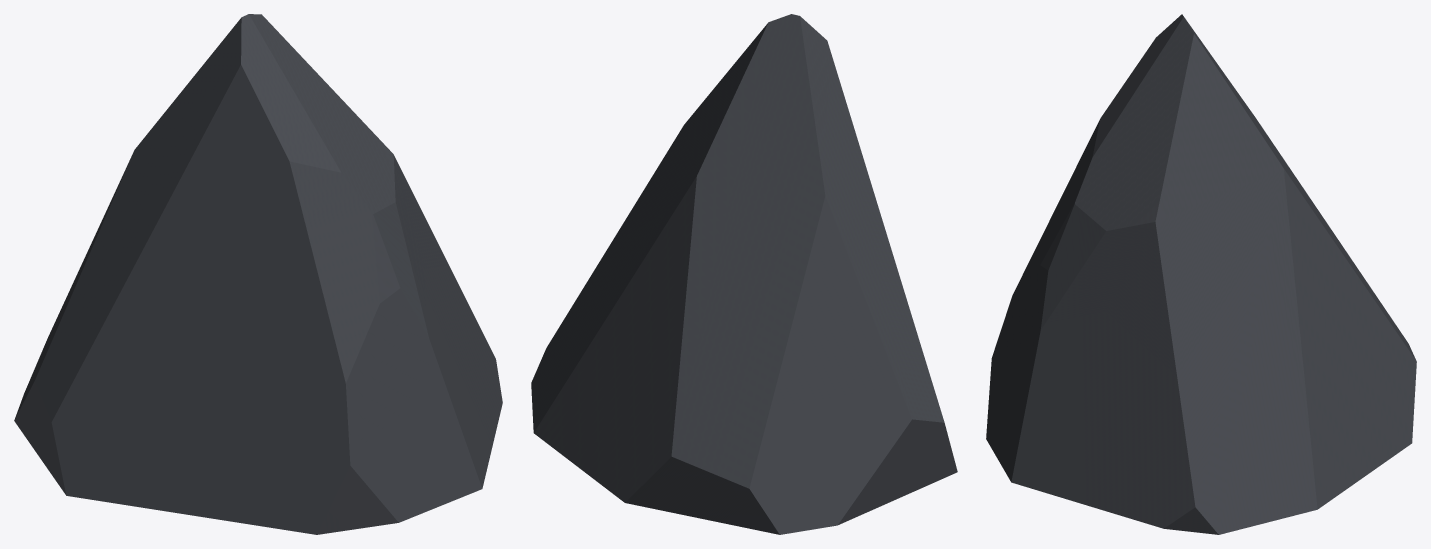
Rendered from rock8.obj.
The picture shows the model from 3 angles, left to right: view 1: azimuth 30°, elevation 25°; view 2: azimuth 150°, elevation 25°; view 3: azimuth 270°, elevation 25°; orthographic projection. The views are drawn at different scales.
Size of the model in its own units: 3.77 by 3.63 by 3.52.
Materials: 1 (1 with a texture image).
